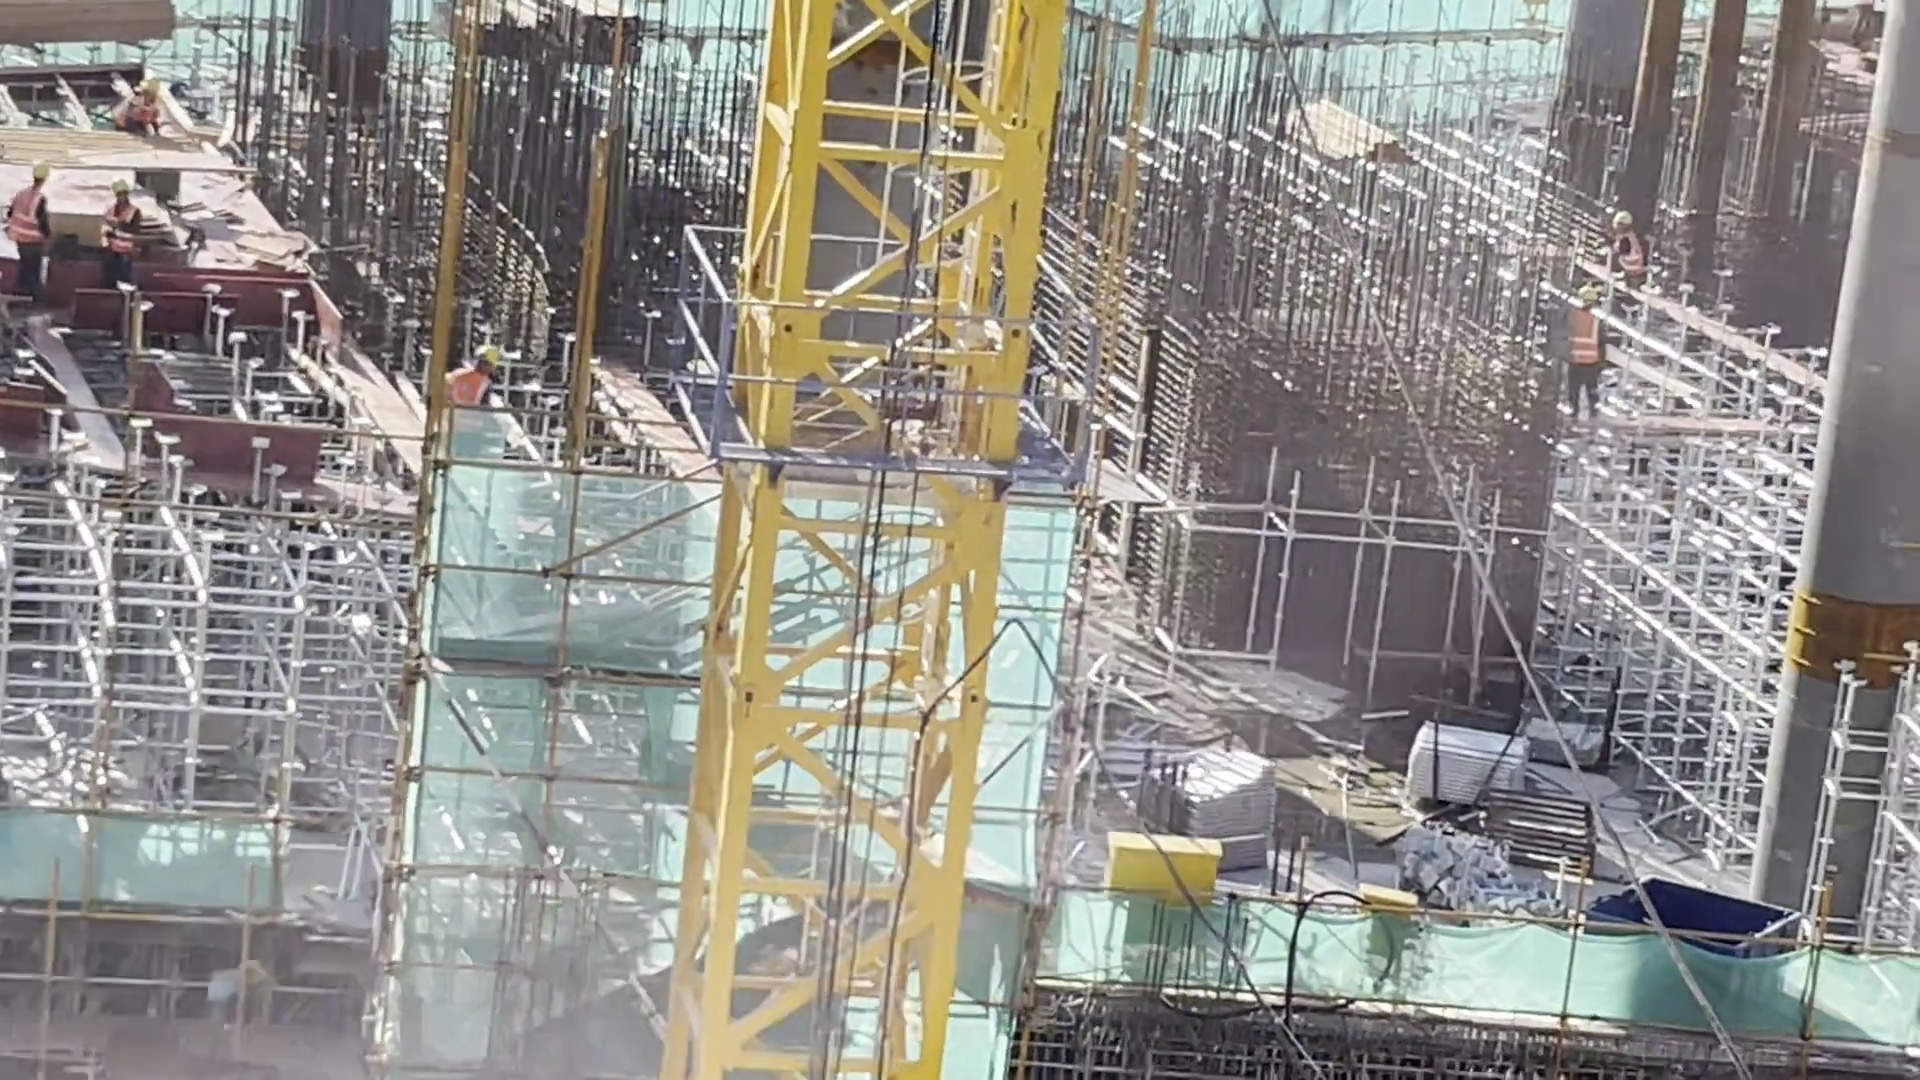cutter: (69, 133, 246, 206)
ebox: (1100, 832, 1222, 923), (1359, 884, 1415, 982)
helmet: (474, 345, 506, 370), (1608, 211, 1636, 230), (27, 163, 53, 183), (1576, 284, 1600, 305), (142, 78, 164, 95), (113, 177, 128, 195)
hopper: (1578, 869, 1800, 952)
person: (1, 159, 56, 306), (1563, 282, 1604, 418), (440, 346, 510, 413), (101, 179, 138, 292), (1608, 211, 1646, 293), (114, 80, 164, 136)
scaffold: (1144, 742, 1272, 869), (1397, 717, 1533, 820)
vest: (8, 183, 49, 254), (444, 369, 491, 414), (1568, 309, 1599, 370), (101, 207, 136, 257), (114, 96, 160, 133), (1614, 237, 1642, 284)
wood: (1278, 97, 1427, 164)
